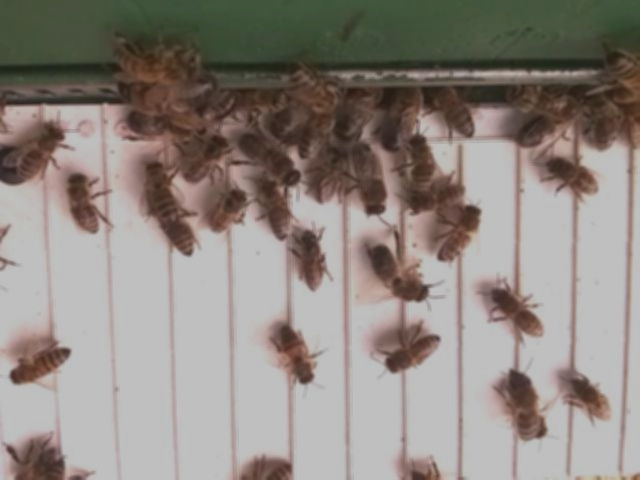Drone: (514, 88, 591, 152), (367, 242, 434, 306), (237, 130, 303, 190), (349, 138, 388, 220), (378, 85, 423, 156)
Worker: (489, 286, 547, 341), (18, 125, 67, 184), (8, 346, 76, 388), (437, 204, 483, 265), (277, 321, 317, 389), (383, 333, 446, 376), (66, 169, 104, 240), (311, 145, 351, 208), (145, 160, 182, 228), (546, 156, 603, 197), (184, 136, 230, 186), (258, 181, 294, 244), (405, 184, 471, 218), (508, 376, 540, 444), (572, 379, 618, 425), (207, 189, 249, 236), (407, 134, 437, 196), (162, 212, 198, 261), (301, 229, 326, 296)
